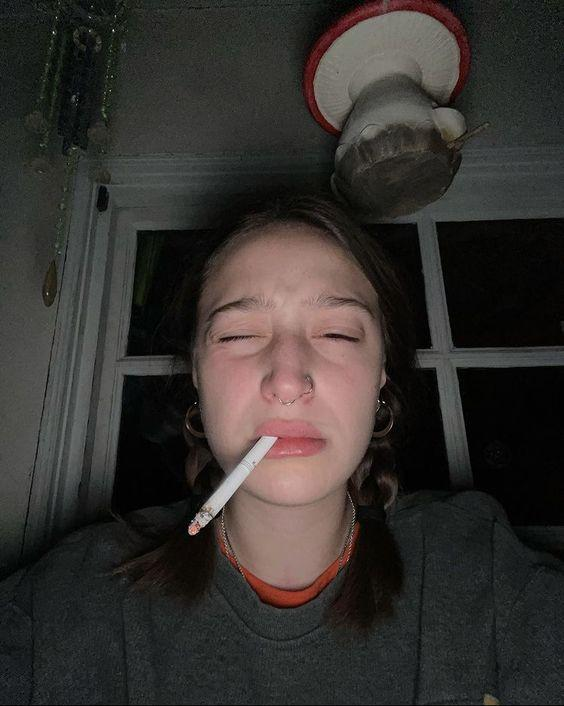cigarette: (187, 437, 279, 536)
